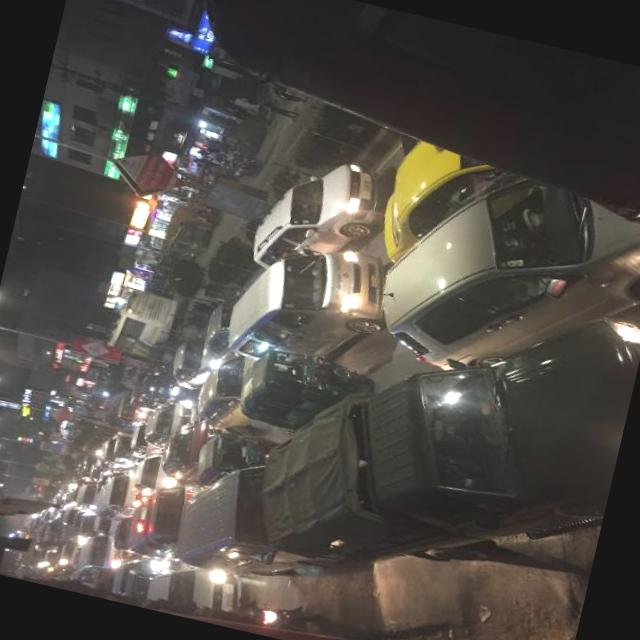bus: (172, 0, 640, 231), (104, 282, 178, 360)
car: (366, 153, 640, 408), (247, 141, 386, 286), (370, 131, 494, 275), (144, 554, 244, 618), (189, 346, 262, 432), (156, 410, 216, 486), (140, 387, 197, 451), (198, 287, 246, 357), (108, 548, 164, 602), (165, 333, 209, 388), (134, 362, 182, 410), (126, 420, 160, 458)
motorcycle: (232, 338, 363, 442), (237, 590, 320, 638), (170, 219, 209, 253), (227, 148, 265, 178), (146, 268, 173, 290), (156, 251, 183, 271)
truck: (249, 248, 640, 615), (220, 224, 390, 382), (168, 448, 320, 587), (120, 469, 200, 561), (90, 468, 142, 522), (73, 527, 122, 581), (110, 390, 144, 432)
